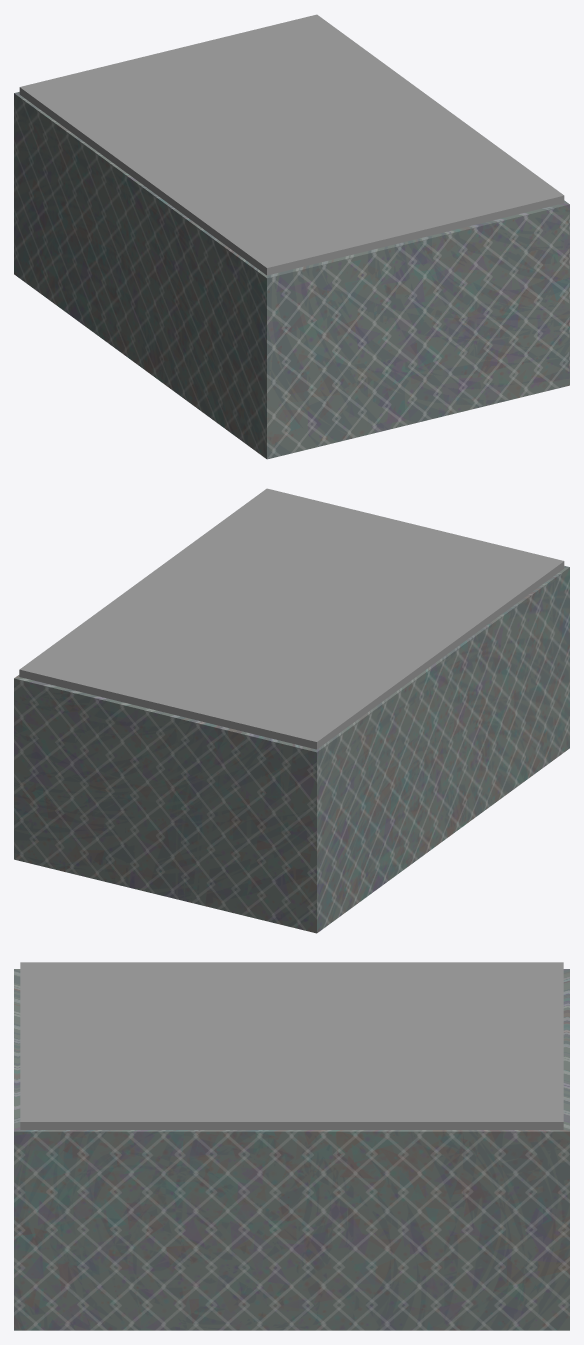
File: Lock level .fbx
The picture shows the model from 3 angles, top to bottom: view 1: azimuth 30°, elevation 25°; view 2: azimuth 150°, elevation 25°; view 3: azimuth 270°, elevation 25°; orthographic projection. The views are drawn at different scales.
Parts seen in each view (by area): view 1: lock_level, bottom lock_level.001; view 2: lock_level, bottom lock_level.001; view 3: lock_level, bottom lock_level.001.
Part boxes in pixels (<box>): lock_level: <box>14,92,569,459</box>; bottom lock_level.001: <box>19,14,564,275</box>; lock_level: <box>14,566,569,933</box>; bottom lock_level.001: <box>19,488,564,749</box>; lock_level: <box>14,969,569,1330</box>; bottom lock_level.001: <box>20,962,563,1129</box>.
Size of the model in its own units: 9.36 by 5.62 by 13.54.
6 materials, 1 textured.
